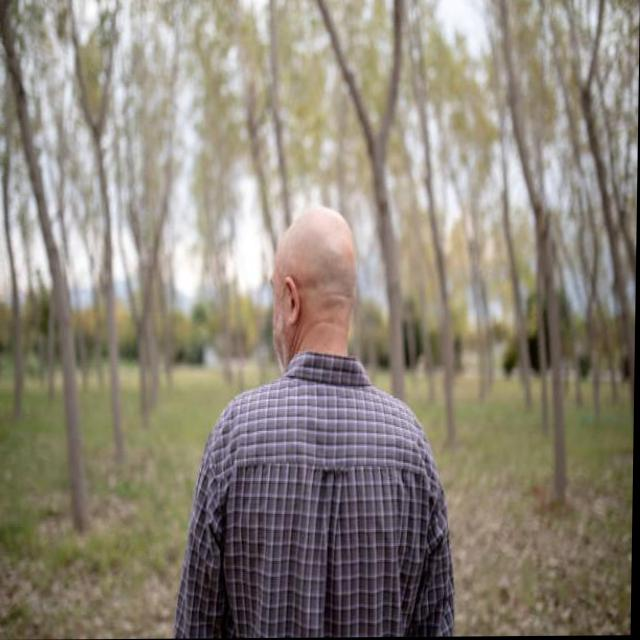no helmet: (283, 201, 369, 399)
